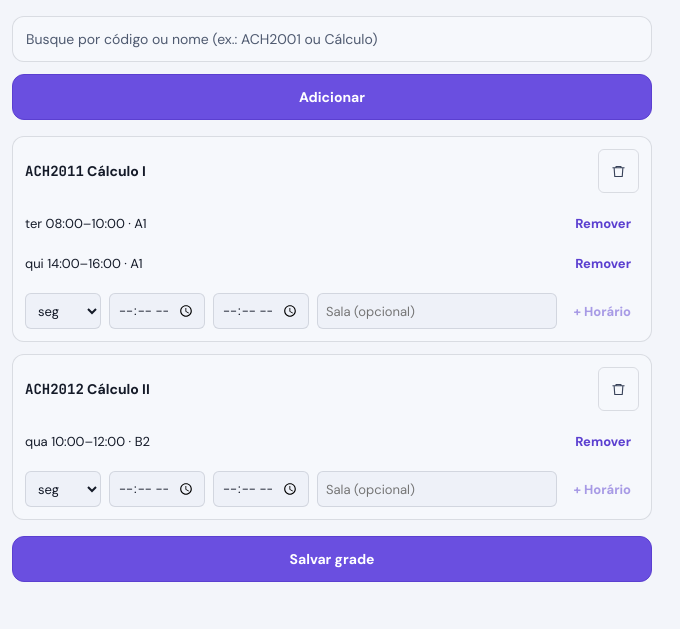
Test: ScheduleBuilder editing › refuses a discipline that is already in the list
Type "ach2011" into the dropdown named "Buscar disciplina" at (332, 39), box [12,16,652,62]
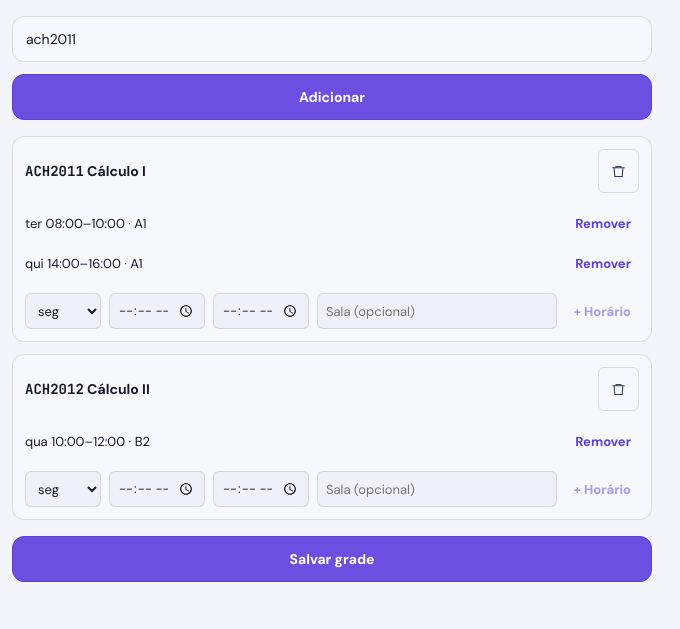
Click the button "Adicionar" at (332, 97), box [12,74,652,120]
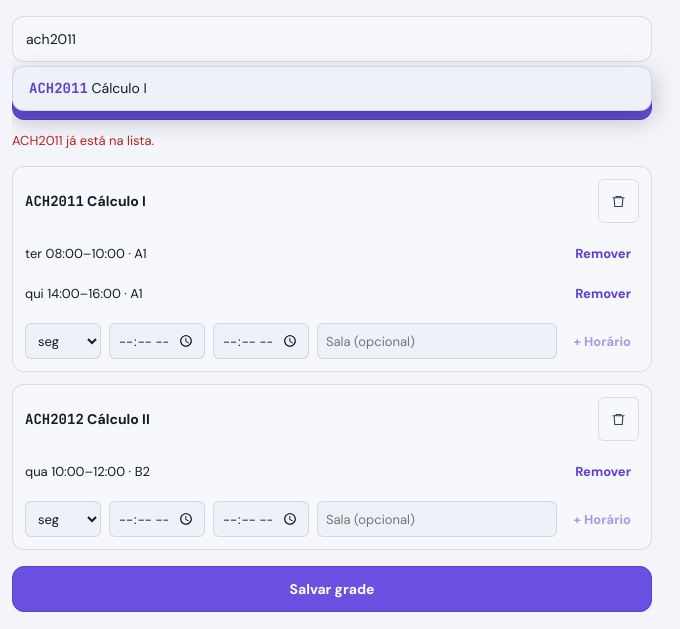
Now the message reads "ACH2011 já está na lista.", box [12,132,154,149]
